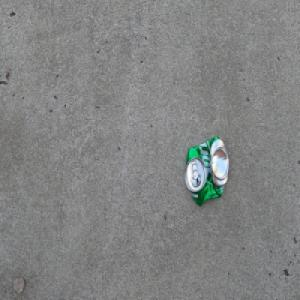SodaCan: (184, 134, 229, 206)
